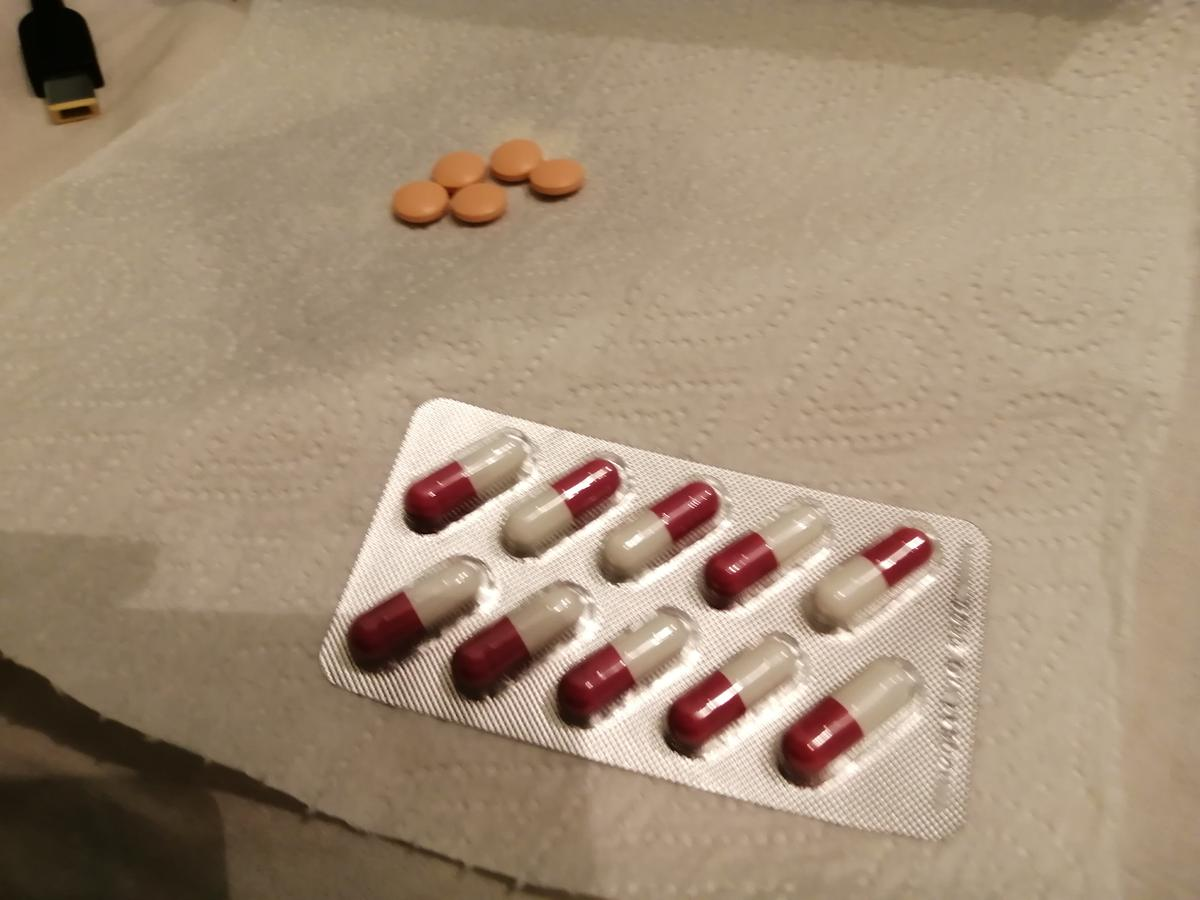capsule: (777, 648, 916, 779), (451, 579, 587, 703), (666, 634, 798, 760), (344, 548, 479, 671), (562, 609, 687, 733), (707, 505, 834, 610), (401, 432, 532, 532), (810, 525, 931, 633), (501, 454, 616, 561), (598, 477, 717, 574)
tablet: (389, 178, 450, 228), (488, 136, 546, 184), (451, 181, 510, 228), (432, 149, 489, 193), (529, 157, 587, 200)
